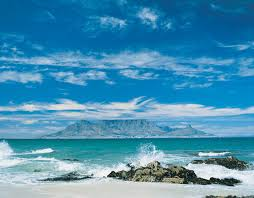beach: (5, 140, 253, 198)
sky: (1, 1, 253, 137)
